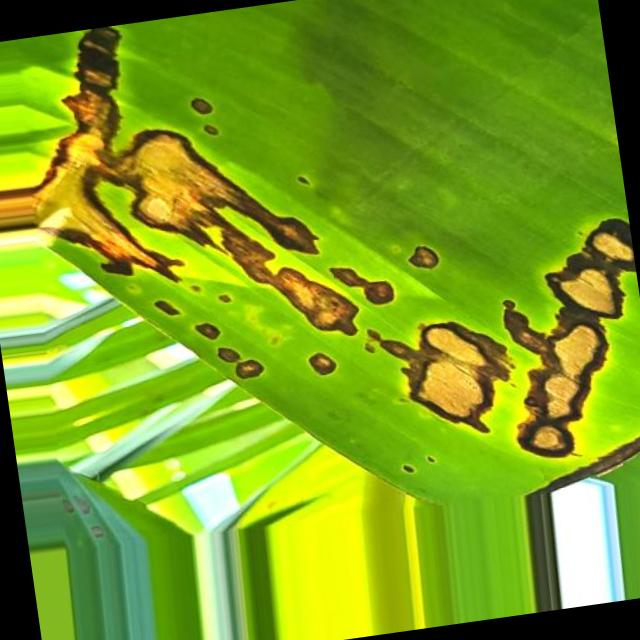Banana_Black_Sigatoka: (26, 41, 640, 640)
